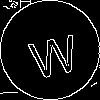W: (25, 25, 82, 80)
